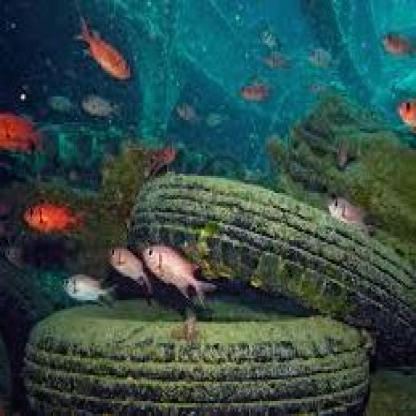tire: (70, 154, 416, 362), (32, 300, 384, 416)
